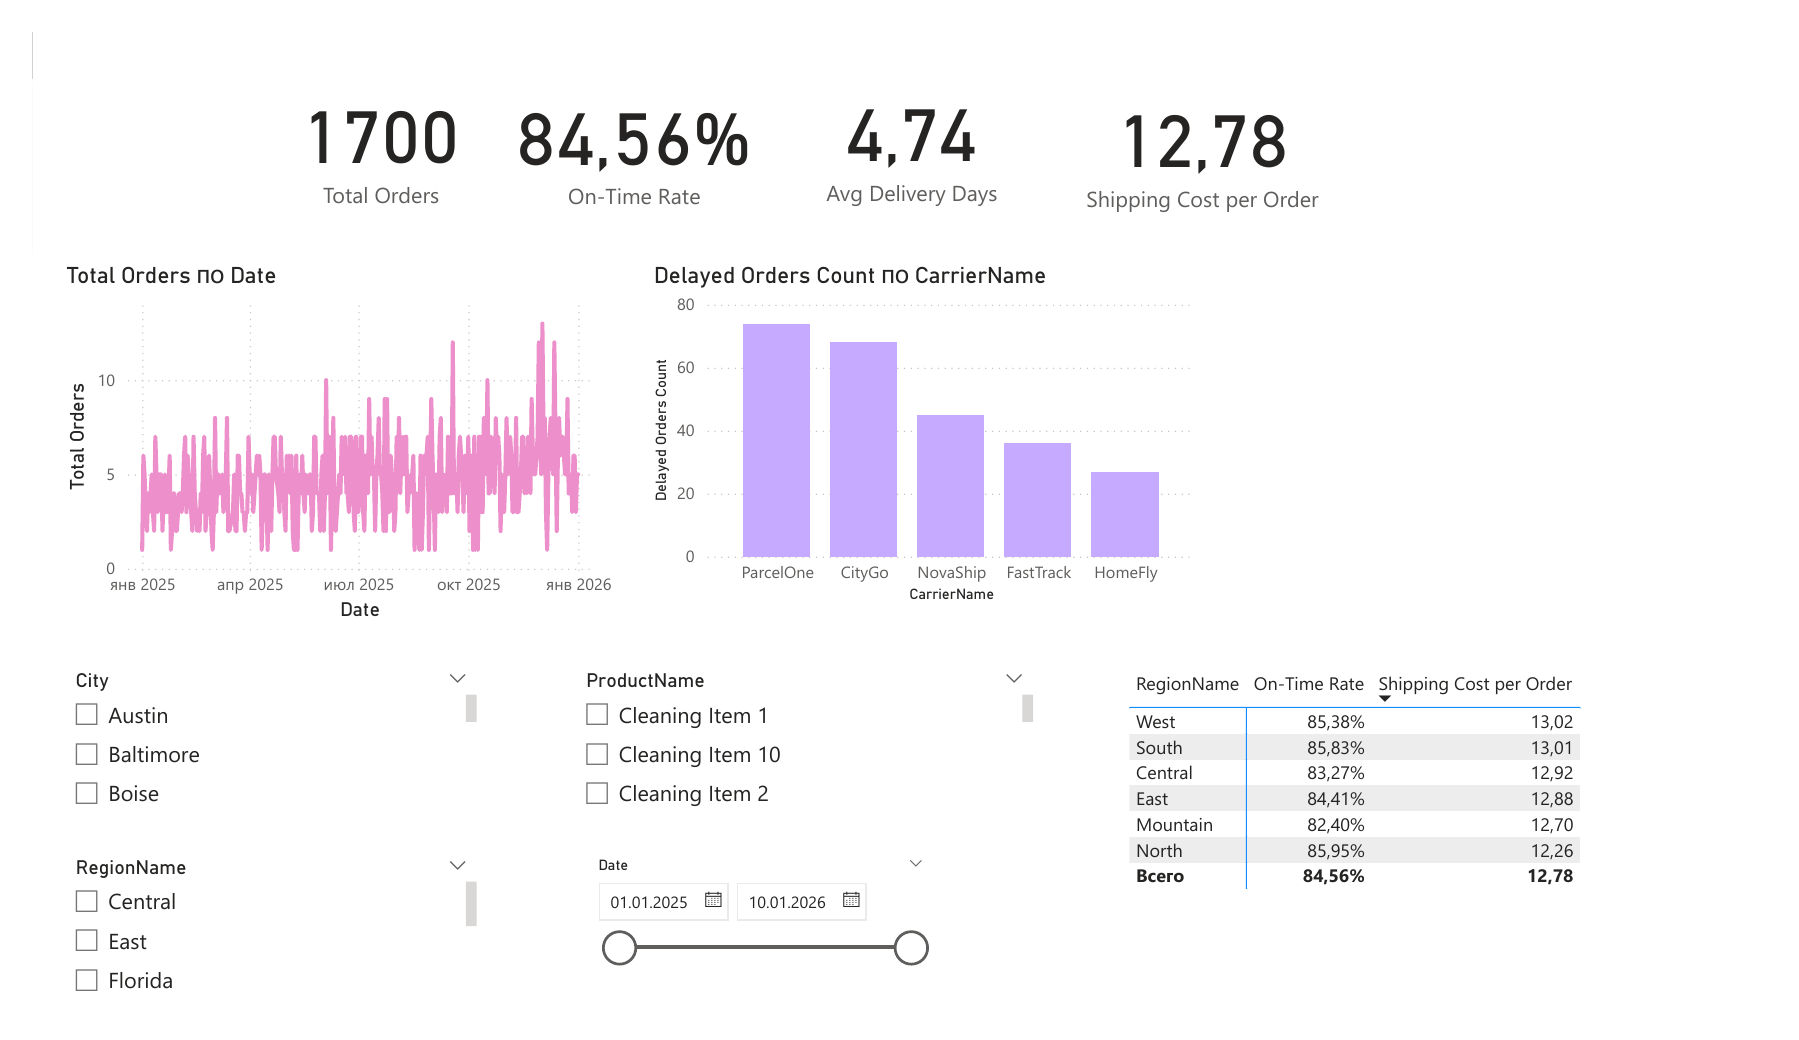

What the dashboard file says about the page in this screenshot:
{"tool":"powerbi","page":{"name":"Summary Dashbord","canvas":[1280,720],"ordinal":0},"visuals":[{"type":"lineChart","fields":{"Y":["Shipments.Total Orders"],"Category":["Calendar.Date"]},"box":[19.5,167.6,413.2,271.3],"z":0},{"type":"columnChart","fields":{"Category":["Carriers.CarrierName"],"Y":["Shipments.Delayed Orders Count"]},"box":[454,167.6,409.7,258],"z":1000},{"type":"pivotTable","fields":{"Rows":["Regions.RegionName"],"Values":["Shipments.On-Time Rate","Shipments.Shipping Cost per Order"]},"box":[805.3,465.9,350.2,178],"z":2000},{"type":"card","fields":{"Values":["Shipments.Total Orders"]},"box":[179,26.3,156.6,110.9],"z":3000},{"type":"slicer","fields":{"Values":["Customers.City"]},"box":[19.5,465.9,313.2,115.7],"z":4000},{"type":"slicer","fields":{"Values":["Regions.RegionName"]},"box":[19.5,604,313.2,115.7],"z":5000},{"type":"slicer","fields":{"Values":["Products.ProductName"]},"box":[395.9,465.9,348.2,110.9],"z":6000},{"type":"card","fields":{"Values":["Shipments.On-Time Rate"]},"box":[335.6,26.3,217.9,112.8],"z":7000},{"type":"card","fields":{"Values":["Shipments.Avg Delivery Days"]},"box":[543.7,26.3,211.1,108],"z":8000},{"type":"card","fields":{"Values":["Shipments.Shipping Cost per Order"]},"box":[754.8,26.3,217.9,116.7],"z":9000},{"type":"slicer","fields":{"Values":["Calendar.Date"]},"box":[404.6,604,265.5,108],"z":10000}]}

Visuals, with their boxes in screenshot pixels (x1, y1, x2, y2), scaled from the page's 1280x720 canvas onto the 1799x1040 screenshot:
lineChart - Shipments.Total Orders x Calendar.Date: crop(27, 242, 608, 634)
columnChart - Carriers.CarrierName x Shipments.Delayed Orders Count: crop(638, 242, 1214, 615)
pivotTable - Regions.RegionName x Shipments.On-Time Rate: crop(1132, 673, 1624, 930)
card - Shipments.Total Orders: crop(252, 38, 472, 198)
slicer - Customers.City: crop(27, 673, 468, 840)
slicer - Regions.RegionName: crop(27, 872, 468, 1039)
slicer - Products.ProductName: crop(556, 673, 1046, 833)
card - Shipments.On-Time Rate: crop(472, 38, 778, 201)
card - Shipments.Avg Delivery Days: crop(764, 38, 1061, 194)
card - Shipments.Shipping Cost per Order: crop(1061, 38, 1367, 207)
slicer - Calendar.Date: crop(569, 872, 942, 1028)
